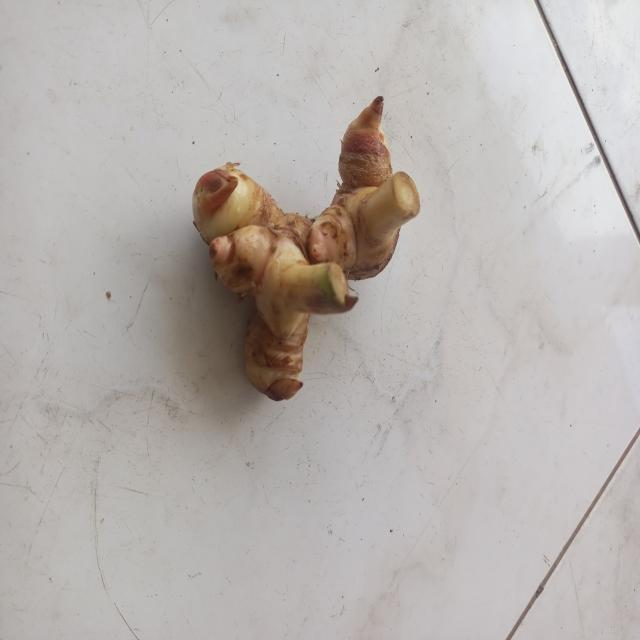ginger: (197, 104, 419, 398)
